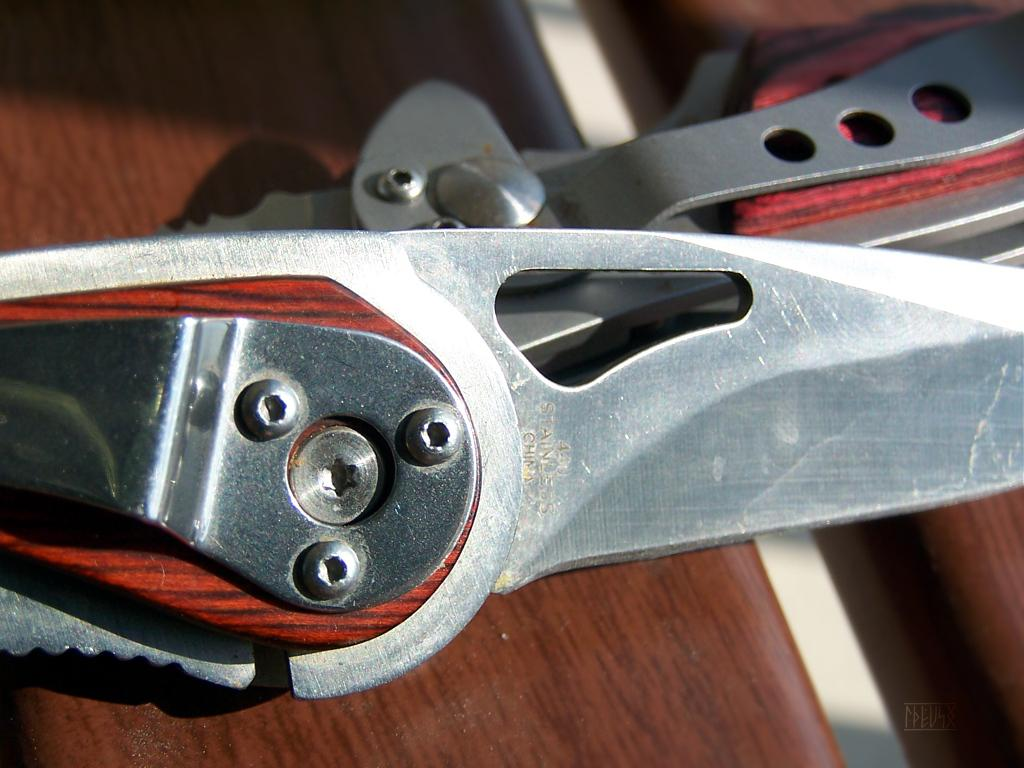knife: (0, 227, 1023, 700)
